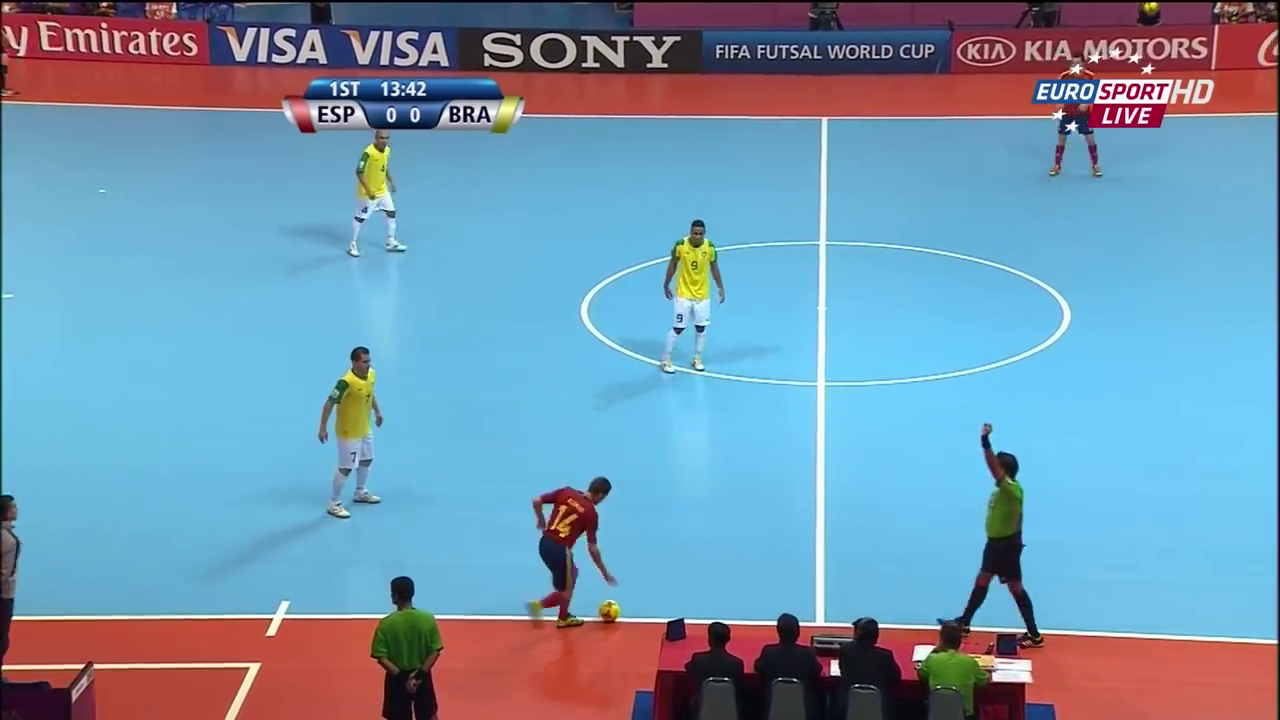ball: (595, 593, 622, 628)
person: (516, 477, 617, 635), (309, 342, 388, 518), (662, 220, 722, 380), (344, 125, 400, 258), (1054, 53, 1106, 186)
